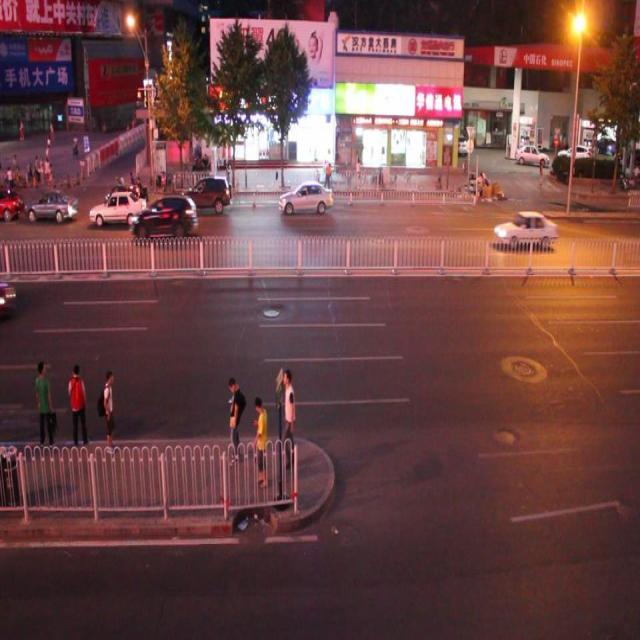car: (488, 201, 573, 261), (128, 198, 201, 242), (180, 165, 235, 218), (271, 183, 342, 224), (91, 180, 143, 230), (26, 186, 83, 230)
